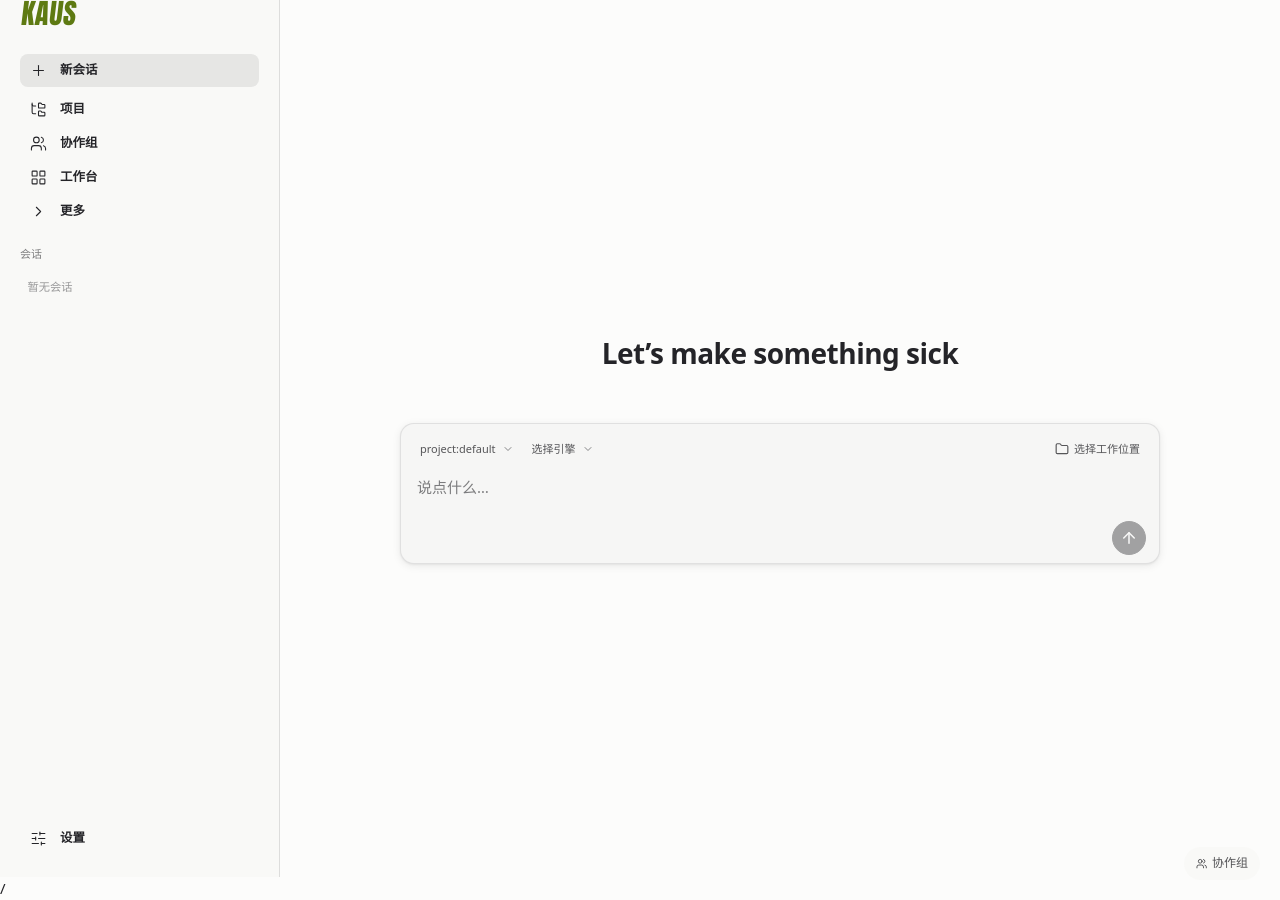
Test: 导航改的是地址 › 点「仪表盘」后 pathname 变成 /dashboard
The width and height of the screenshot is (1280, 900).
(page scrolled)
Expected: the element with test id "conversation-sidebar" is shown, [20,246,72,294]
Expected: the text with test id "pathname" reads "/", [0,878,6,898]
Step 1. Click the button with test id "nav-more-toggle" → (140, 212), box [20,195,259,228]
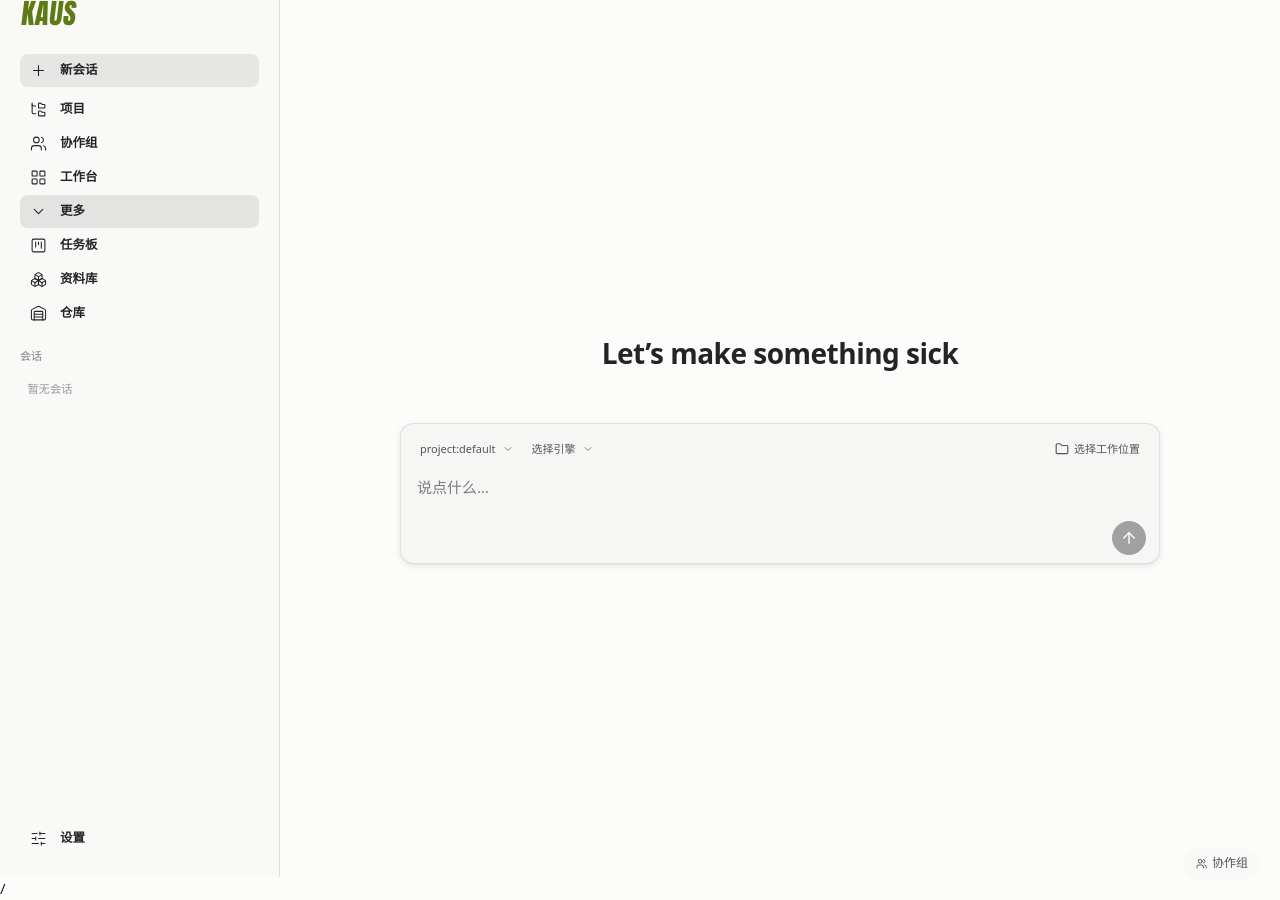
Step 2. Click the button "设置" → (140, 838), box [20,822,259,855]
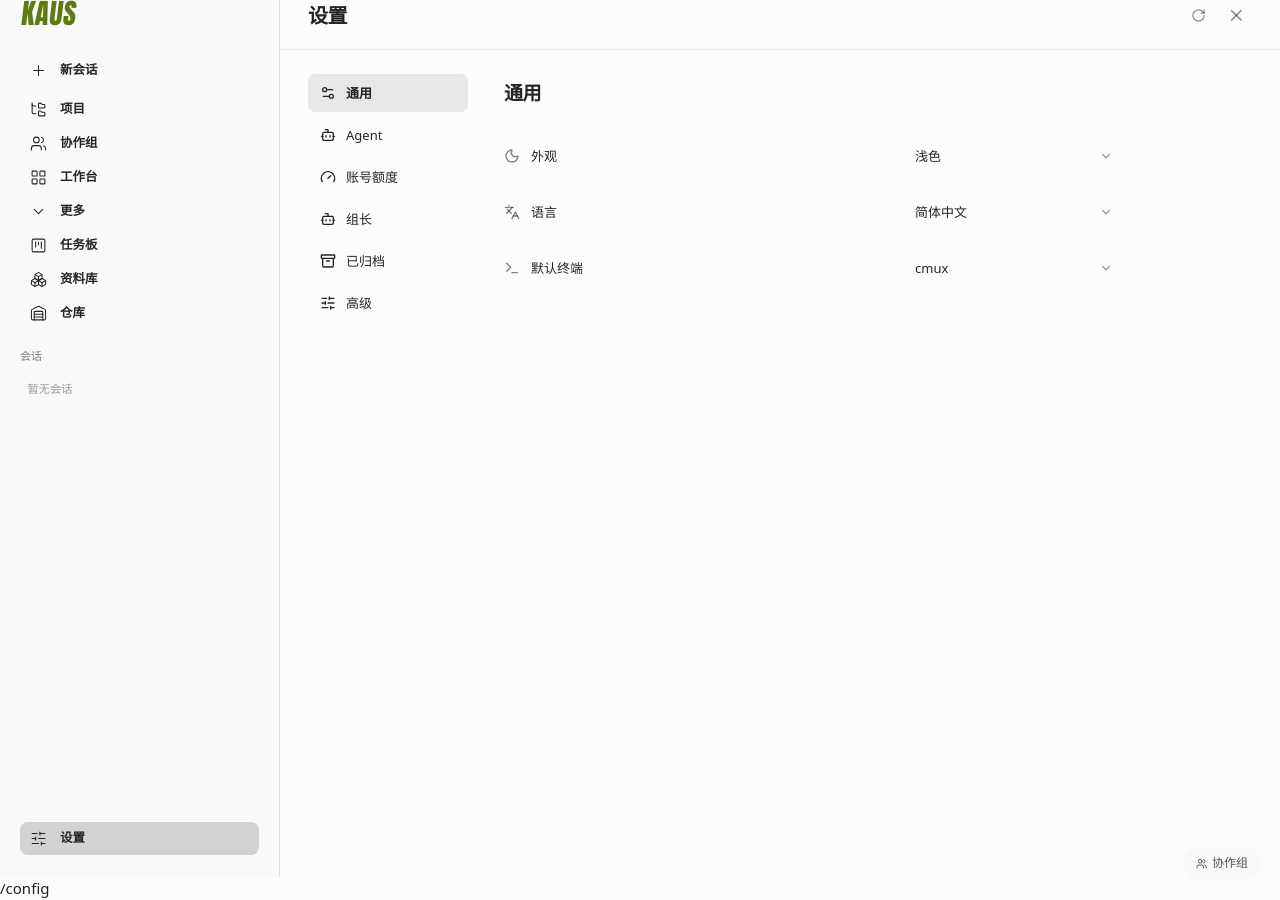
Step 3. Click the button "高级" → (388, 303), box [308,284,468,322]
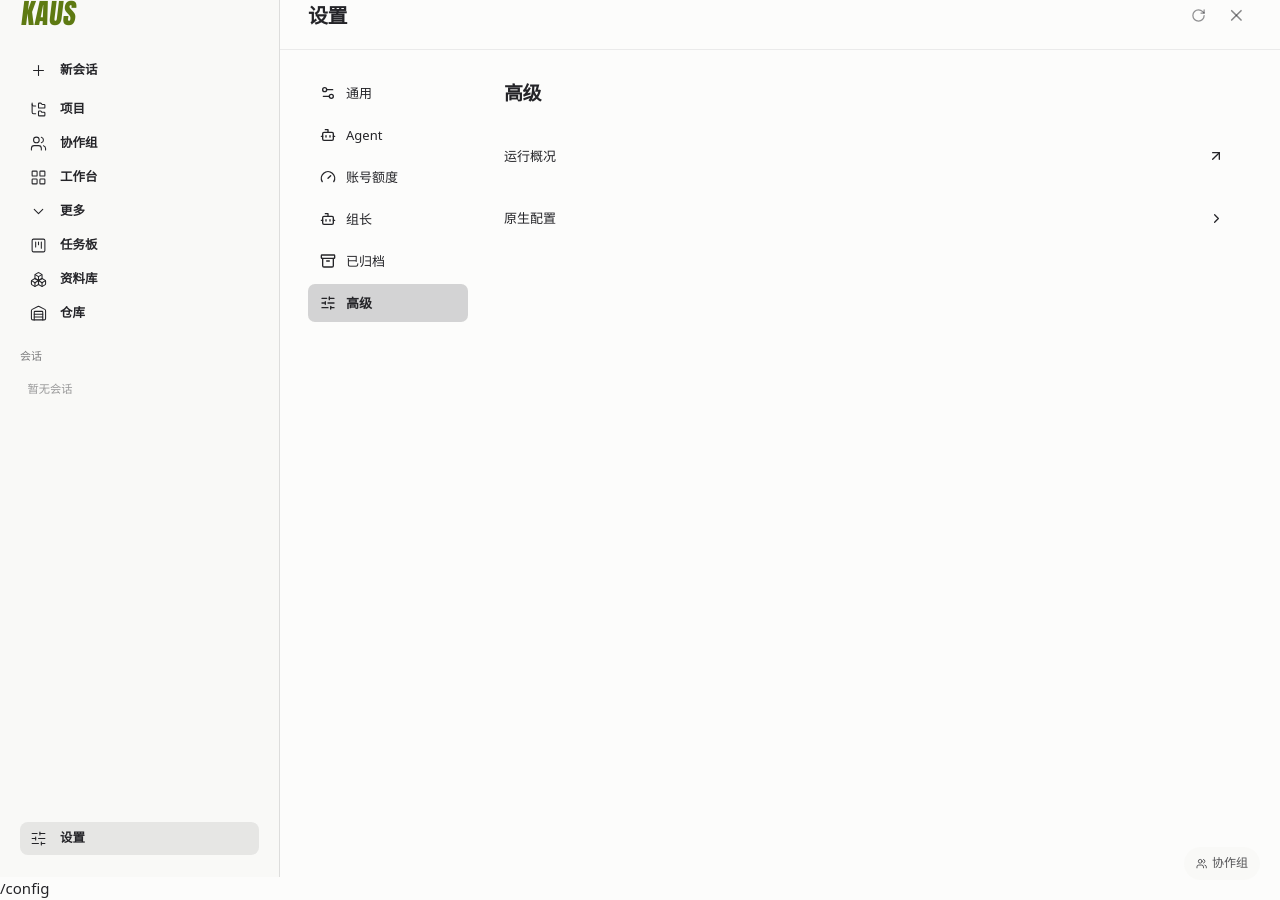
Step 4. Click the button "运行概况" → (530, 156), box [504,134,1224,178]
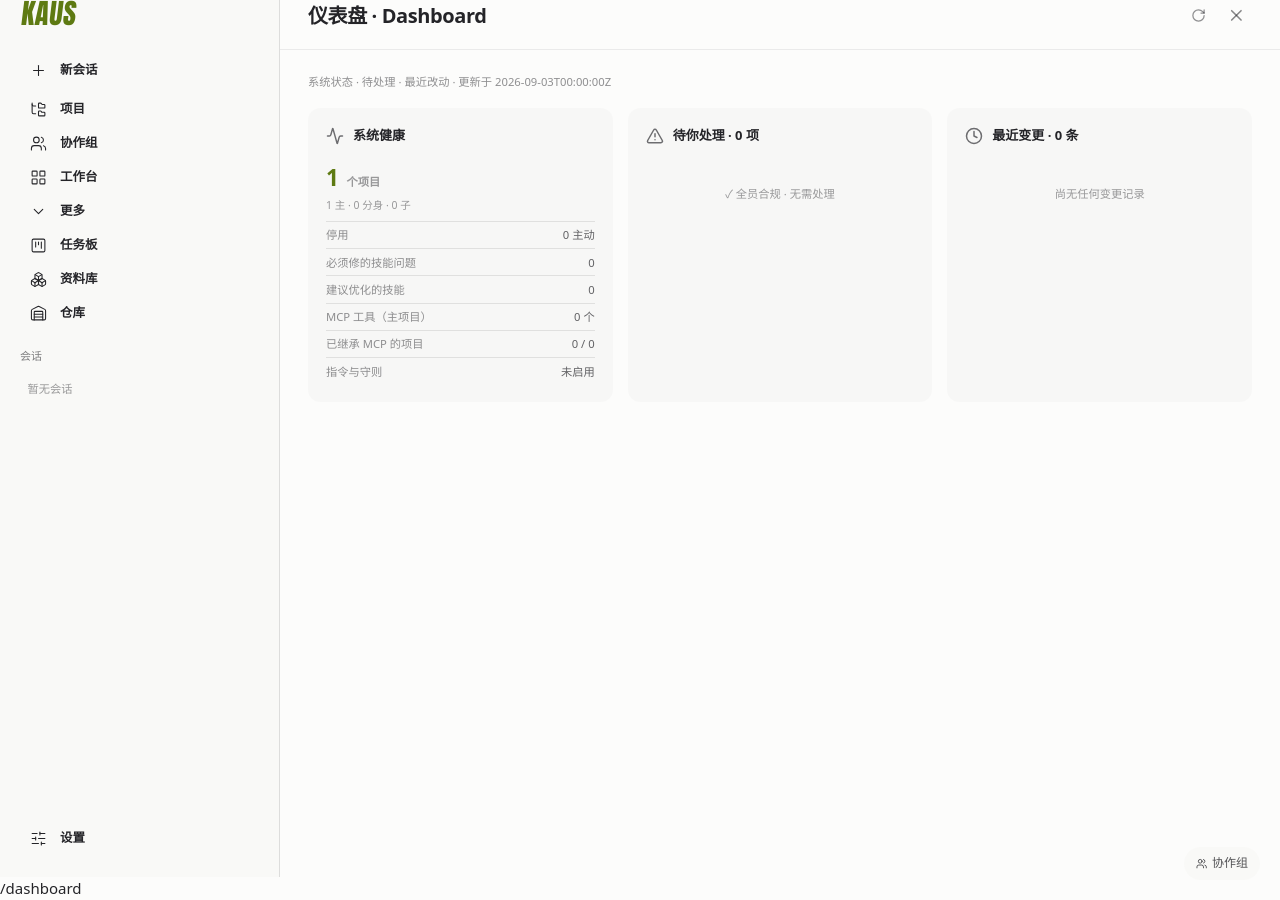
Result: the text with test id "pathname" reads "/dashboard" at [0,878,82,898]
